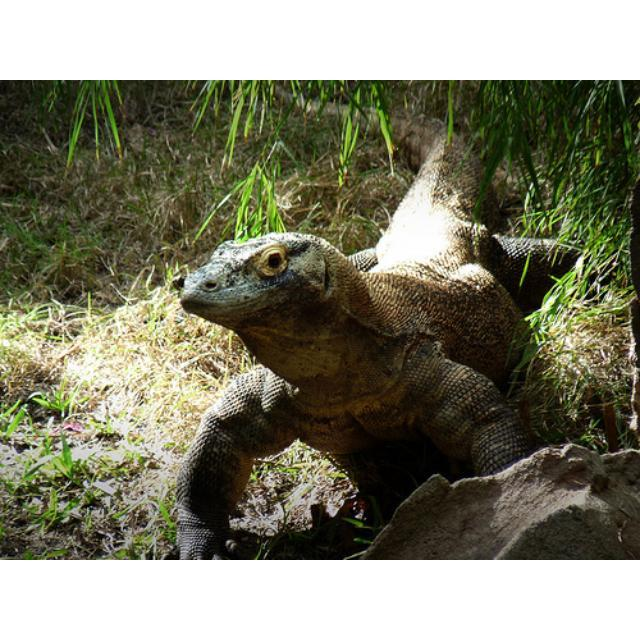KomodoDragon: (176, 81, 579, 558)
